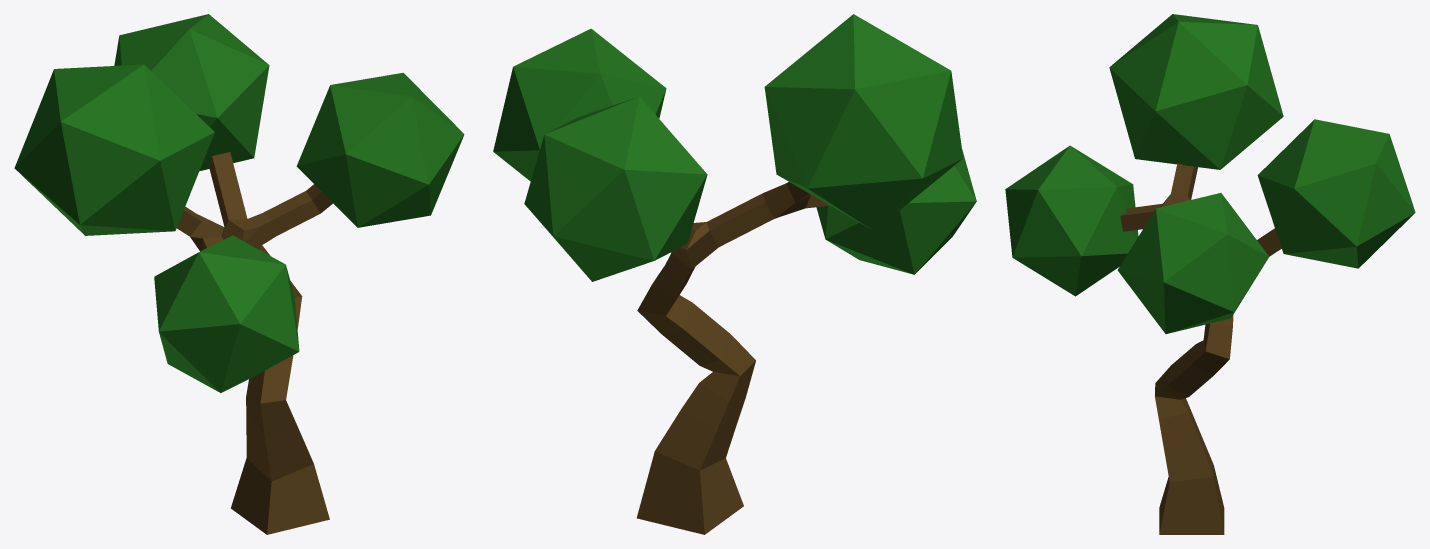
Rendered from Tree_LowPoly_1-3.fbx.
3 views of the same model, side by side, from view 1: azimuth 30°, elevation 25°; view 2: azimuth 150°, elevation 25°; view 3: azimuth 270°, elevation 25° (orthographic). The views are drawn at different scales.
Visible parts, largest first — view 1: Tree_LowPoly_1-3; view 2: Tree_LowPoly_1-3; view 3: Tree_LowPoly_1-3.
Part boxes in pixels (x1,y1,x2,y2): Tree_LowPoly_1-3: (14, 14, 464, 534); Tree_LowPoly_1-3: (493, 14, 976, 534); Tree_LowPoly_1-3: (1005, 14, 1415, 534).
Size of the model in its own units: 803 by 920 by 782.
